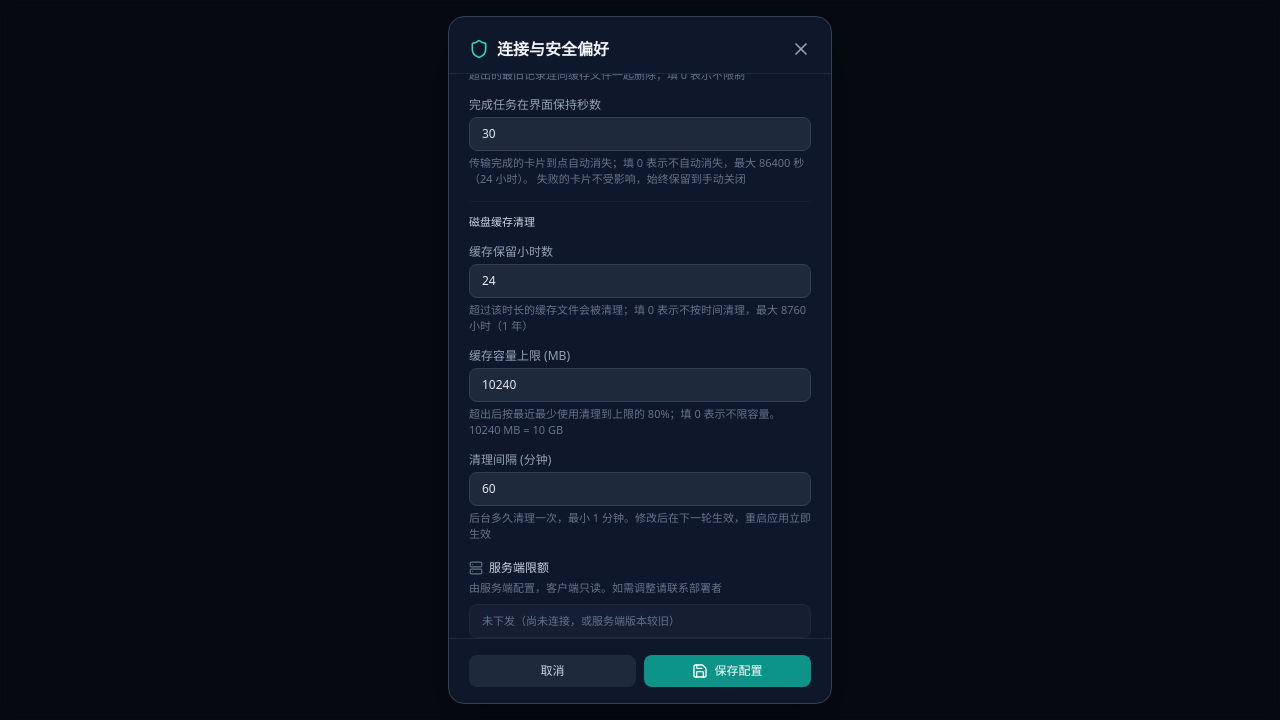
设置面板的数值校验 › 间隔字段清空时的提示不会引导用户填 0
(page scrolled)
Clear the number field labelled "清理间隔 (分钟)" at (640, 489), box [469,472,811,506]
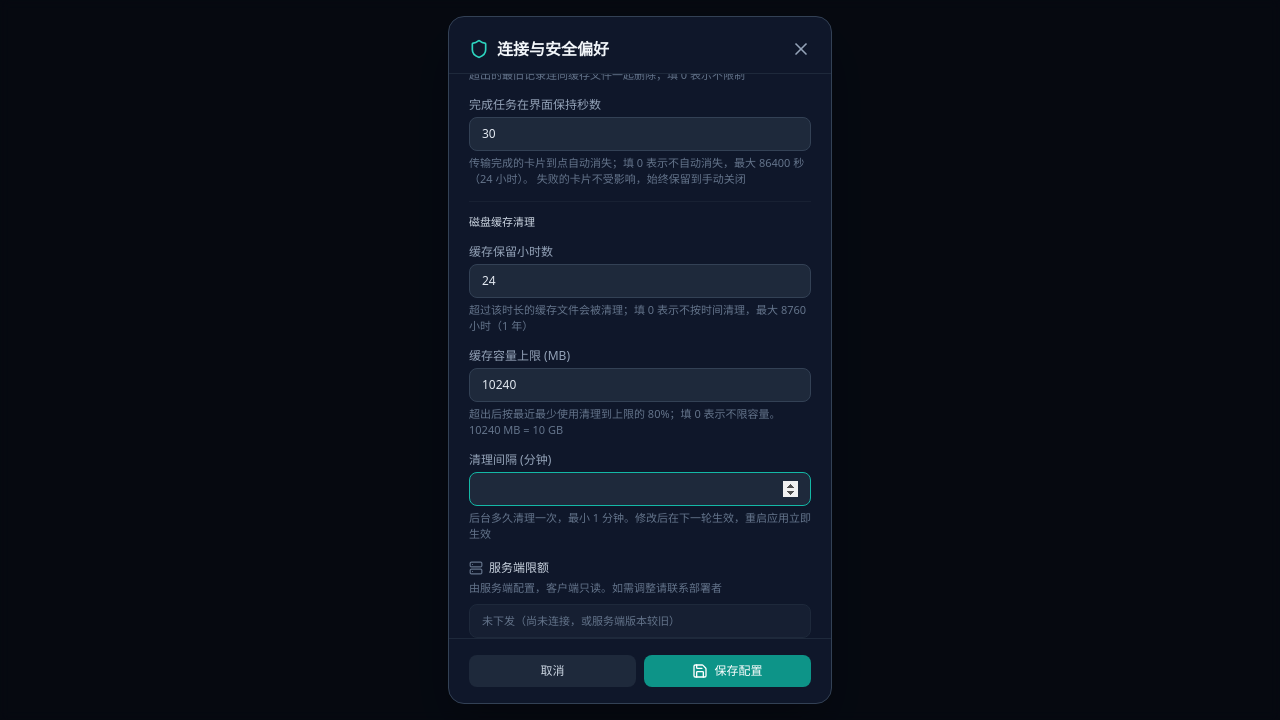
Click the button "保存配置".
click(728, 671)  # box [644,655,811,687]
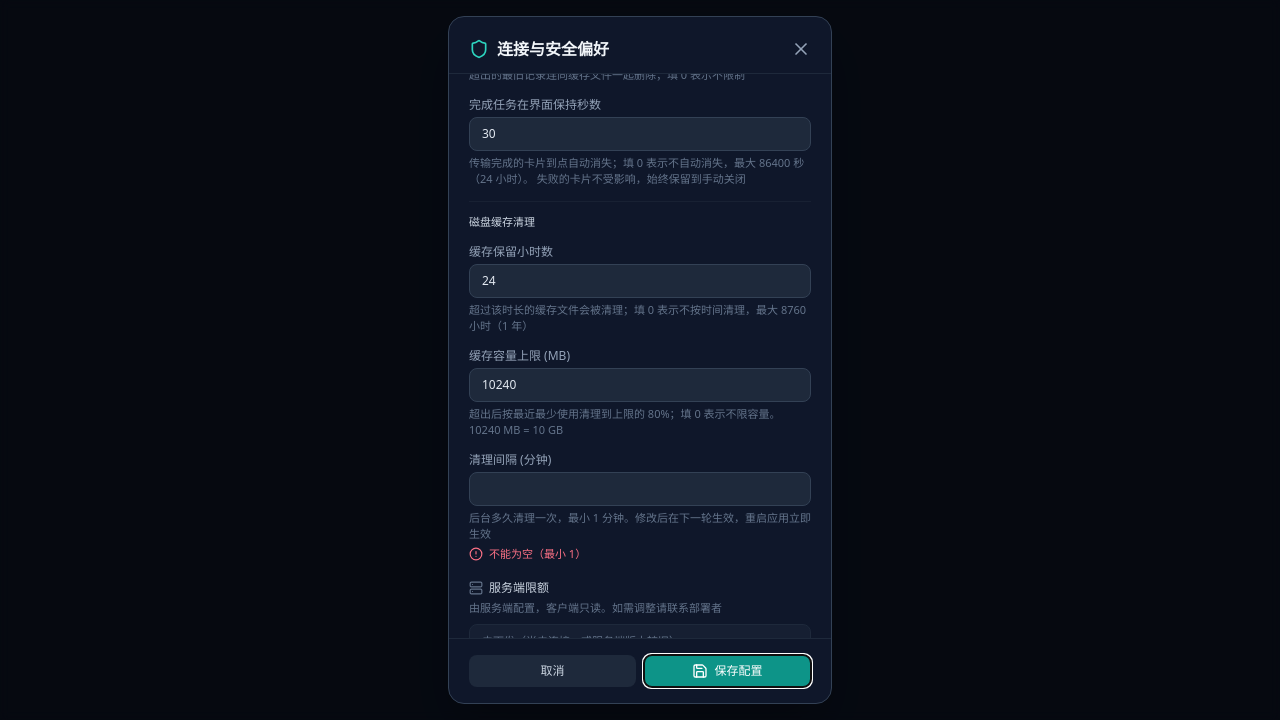
Now the text "不能为空（最小 1）" is shown, box [489,546,586,562]
